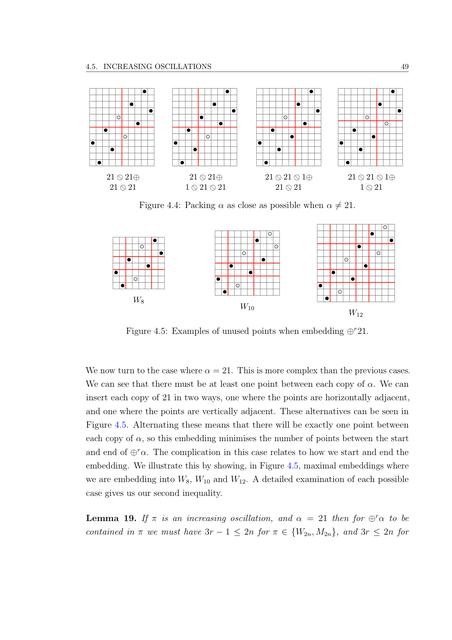box: (86, 84, 406, 211), (109, 222, 400, 340)
